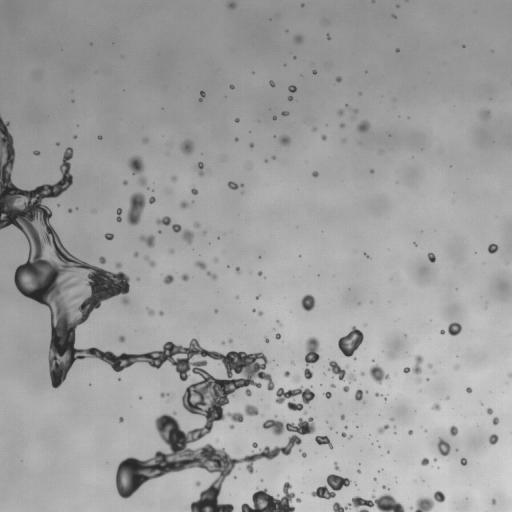droplet: (275, 386, 315, 411), (338, 327, 363, 357), (369, 364, 389, 384), (403, 355, 423, 374), (128, 156, 144, 174), (440, 322, 461, 335), (301, 294, 315, 311), (437, 438, 450, 455), (140, 235, 155, 247), (181, 140, 193, 154), (182, 229, 194, 243), (244, 404, 258, 415), (156, 216, 171, 225), (357, 121, 369, 132), (279, 135, 290, 145), (163, 274, 173, 284), (377, 424, 388, 433), (355, 389, 363, 401), (488, 244, 498, 253), (489, 434, 498, 444), (228, 181, 239, 189), (450, 425, 458, 436), (480, 110, 490, 118), (138, 175, 146, 185), (427, 252, 435, 262), (196, 261, 206, 269), (172, 224, 181, 232), (294, 35, 302, 43), (421, 457, 429, 465), (228, 1, 235, 9), (288, 85, 296, 92), (190, 187, 198, 194), (180, 201, 188, 208), (105, 233, 113, 240), (432, 403, 440, 410), (181, 274, 188, 281), (147, 308, 154, 315), (324, 391, 331, 398), (293, 374, 299, 382), (492, 417, 498, 425), (160, 392, 169, 397), (149, 196, 155, 203), (99, 256, 105, 263), (460, 458, 466, 465), (334, 462, 339, 470), (312, 171, 318, 177), (284, 371, 290, 377), (269, 80, 274, 86), (338, 109, 343, 115), (115, 263, 121, 268), (275, 333, 280, 339), (119, 336, 124, 342), (343, 386, 349, 391), (466, 387, 471, 393), (487, 408, 492, 414), (252, 442, 257, 448), (336, 76, 341, 81), (321, 135, 326, 140), (34, 150, 39, 155), (171, 176, 176, 181), (341, 432, 346, 437), (282, 111, 288, 115), (257, 311, 263, 315), (340, 414, 344, 420), (326, 34, 330, 39), (230, 84, 234, 89), (143, 138, 147, 143), (123, 180, 127, 185), (194, 223, 199, 227), (364, 253, 369, 257), (158, 311, 163, 315), (264, 337, 268, 342), (427, 363, 432, 367), (416, 378, 421, 382), (119, 417, 123, 422), (302, 452, 306, 457), (195, 481, 200, 485), (312, 70, 316, 74), (288, 96, 292, 100), (235, 118, 239, 122), (340, 123, 344, 127), (230, 424, 234, 428), (408, 430, 412, 434), (134, 252, 137, 257), (236, 267, 239, 272), (375, 393, 380, 396), (98, 135, 101, 139), (250, 143, 253, 147), (258, 271, 261, 275), (256, 295, 260, 298), (228, 339, 232, 342), (455, 365, 458, 369), (508, 373, 511, 377), (348, 435, 352, 438), (357, 469, 360, 473), (382, 485, 386, 488), (492, 499, 495, 503), (354, 109, 357, 112), (273, 116, 276, 119), (235, 138, 238, 141), (272, 156, 275, 159), (370, 169, 373, 172), (68, 209, 71, 212), (214, 309, 217, 312), (331, 384, 334, 387), (170, 249, 172, 253), (392, 15, 395, 17), (396, 49, 399, 51), (313, 128, 316, 130), (74, 135, 76, 138), (158, 230, 160, 233), (214, 259, 217, 261), (252, 309, 255, 311), (361, 372, 363, 375), (303, 411, 306, 413), (434, 458, 436, 461), (373, 478, 376, 480), (301, 4, 303, 6), (265, 159, 267, 161), (414, 243, 416, 245), (391, 418, 393, 420), (345, 426, 347, 428), (260, 479, 262, 481)
ligament: (0, 115, 313, 511), (240, 482, 300, 511), (333, 493, 405, 511), (311, 474, 350, 499), (410, 490, 445, 511), (304, 337, 320, 379), (127, 192, 145, 225), (328, 361, 355, 381), (315, 435, 332, 449), (145, 256, 155, 266), (197, 162, 203, 175), (116, 208, 122, 221), (207, 271, 216, 279), (199, 91, 205, 101), (371, 0, 374, 1)
